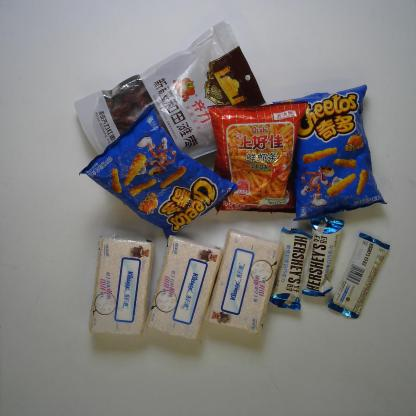Chocolate: (326, 229, 393, 323), (270, 224, 314, 311), (300, 214, 345, 298)
Dried Food: (76, 17, 272, 162)
Puffed Food: (79, 100, 239, 239), (268, 83, 390, 222), (200, 100, 314, 216)
Tissue: (200, 228, 285, 338), (142, 233, 225, 344), (87, 233, 156, 340)
